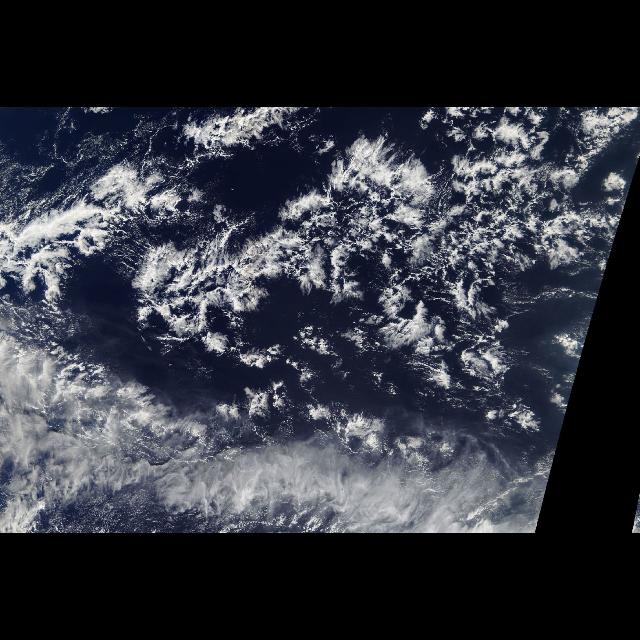Fish: (5, 180, 372, 318), (8, 356, 214, 530), (220, 431, 562, 523)
Flower: (402, 114, 598, 416)
